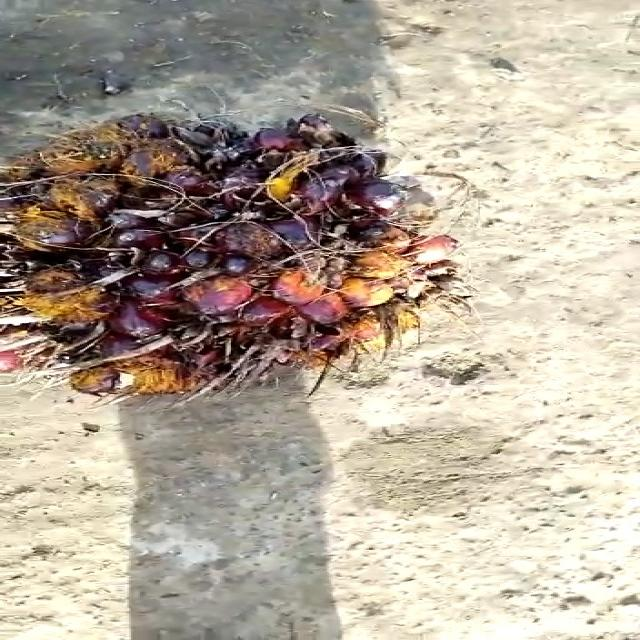palm oil: (0, 113, 478, 403)
